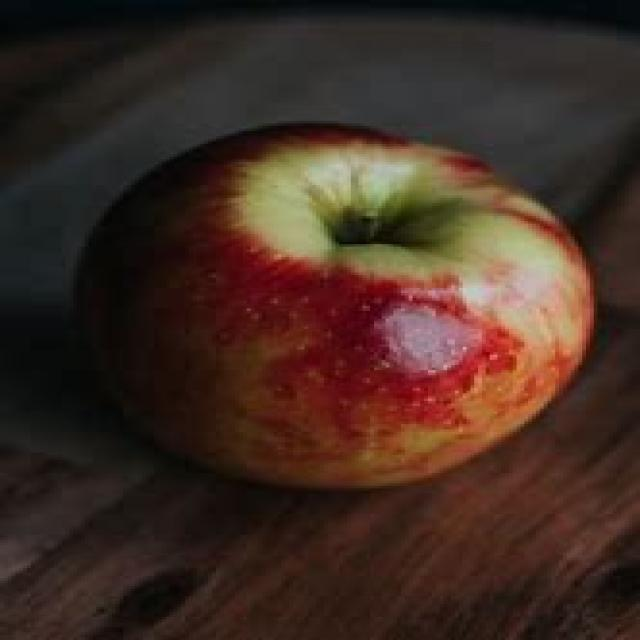Apple: (72, 121, 603, 508)
